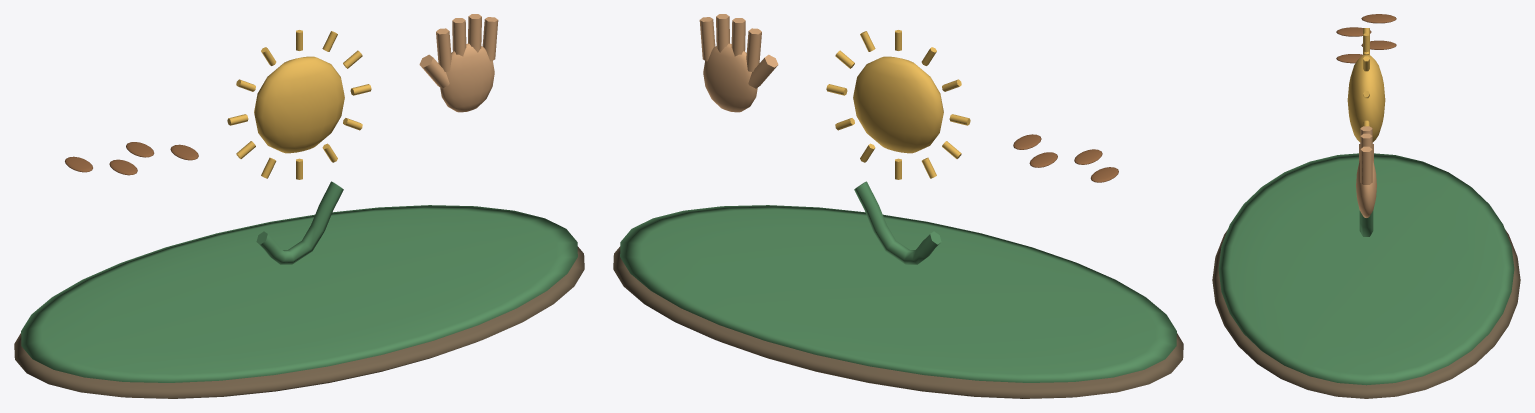
File: complete-first-result-complement.glb
The picture shows the model from 3 angles, left to right: view 1: azimuth 30°, elevation 25°; view 2: azimuth 150°, elevation 25°; view 3: azimuth 270°, elevation 25°; orthographic projection. The views are drawn at different scales.
Parts seen in each view (by area): view 1: complete-first-result-complement_surface_01, complete-first-result-complement_surface_00, complete-first-result-complement_surface_03, complete-first-result-complement_surface_04, complete-first-result-complement_surface_02; view 2: complete-first-result-complement_surface_01, complete-first-result-complement_surface_00, complete-first-result-complement_surface_03, complete-first-result-complement_surface_04, complete-first-result-complement_surface_02; view 3: complete-first-result-complement_surface_01, complete-first-result-complement_surface_00, complete-first-result-complement_surface_03, complete-first-result-complement_surface_04, complete-first-result-complement_surface_02.
Part boxes in pixels (bbox=[...]): complete-first-result-complement_surface_01: bbox=[21, 181, 577, 382]; complete-first-result-complement_surface_00: bbox=[14, 246, 584, 398]; complete-first-result-complement_surface_03: bbox=[227, 30, 371, 179]; complete-first-result-complement_surface_04: bbox=[419, 14, 498, 112]; complete-first-result-complement_surface_02: bbox=[65, 142, 198, 175]; complete-first-result-complement_surface_01: bbox=[620, 181, 1176, 382]; complete-first-result-complement_surface_00: bbox=[613, 246, 1183, 398]; complete-first-result-complement_surface_03: bbox=[826, 30, 970, 179]; complete-first-result-complement_surface_04: bbox=[699, 14, 778, 112]; complete-first-result-complement_surface_02: bbox=[1013, 134, 1118, 182]; complete-first-result-complement_surface_01: bbox=[1218, 153, 1514, 385]; complete-first-result-complement_surface_00: bbox=[1212, 229, 1520, 398]; complete-first-result-complement_surface_03: bbox=[1347, 28, 1385, 142]; complete-first-result-complement_surface_04: bbox=[1356, 126, 1376, 217]; complete-first-result-complement_surface_02: bbox=[1336, 14, 1396, 63].
Size of the model in its own units: 4.56 by 2.33 by 2.5.
